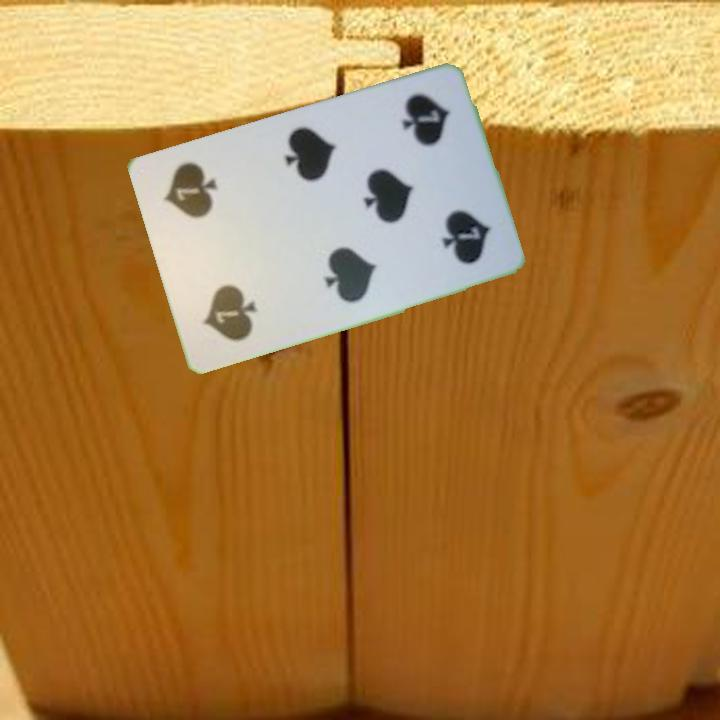s_7.png: (173, 236, 283, 356), (372, 78, 481, 197)
